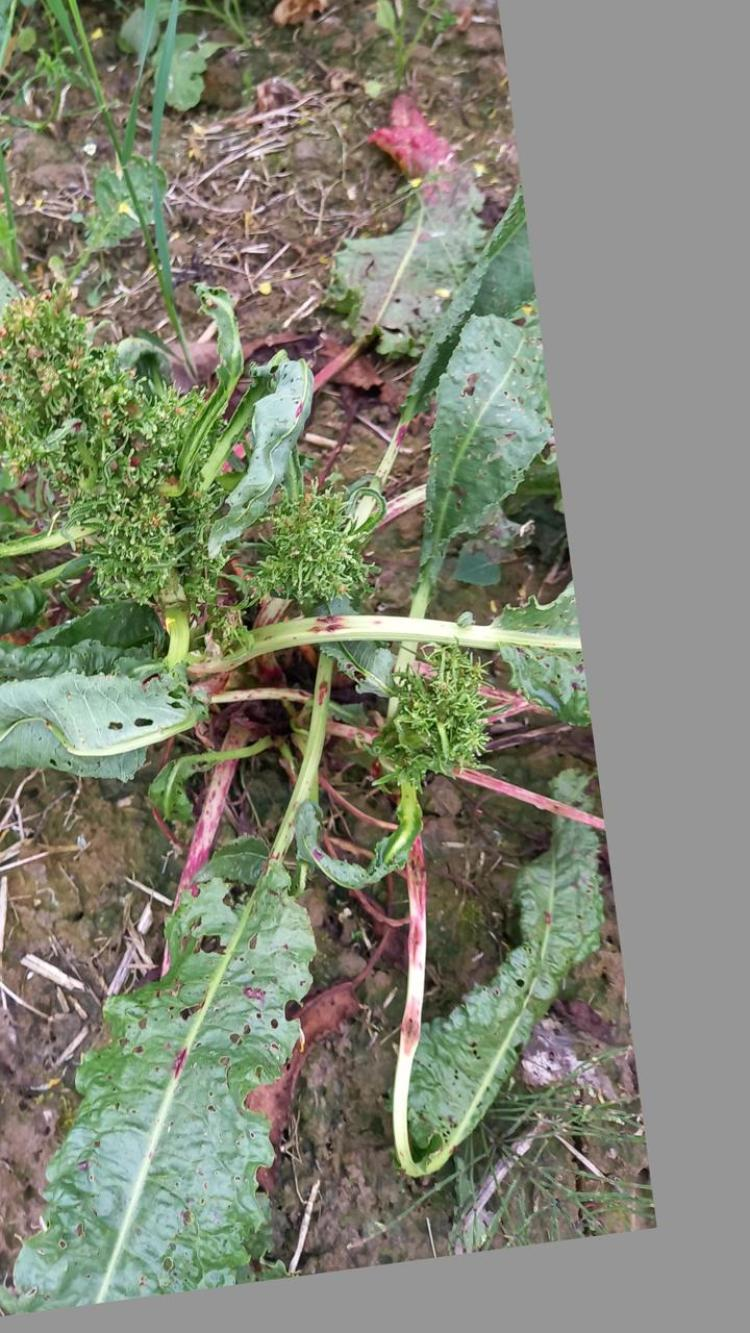zhavel: (0, 281, 540, 1254)
